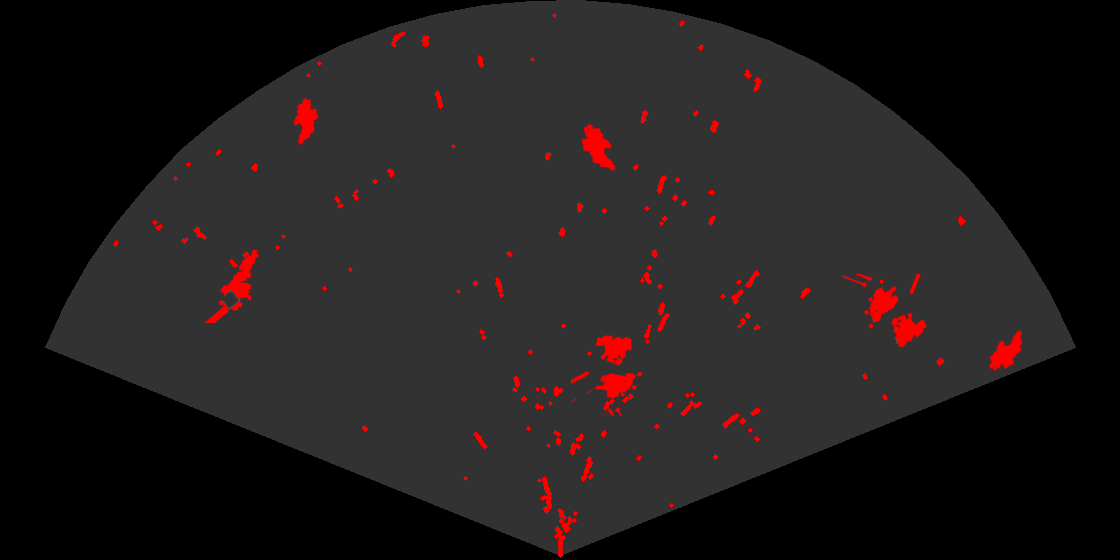AUV: (580, 122, 617, 173), (987, 329, 1024, 373), (292, 96, 320, 147)
cage: (843, 274, 928, 349), (571, 333, 644, 416)
frogman: (203, 248, 260, 323)
